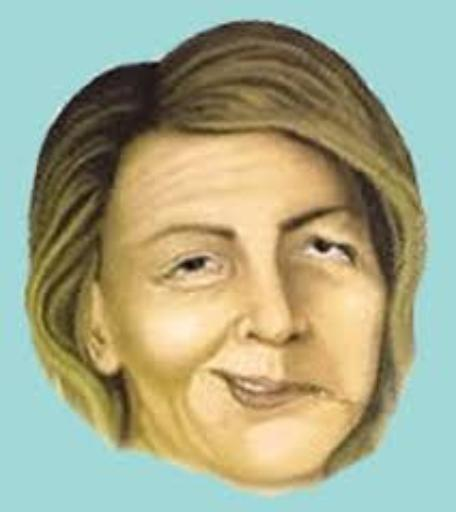left_eye: (294, 236, 359, 266)
left_lip_corner: (305, 380, 338, 404)
right_eye: (157, 256, 228, 285)
right_lip_corner: (204, 363, 230, 383)
